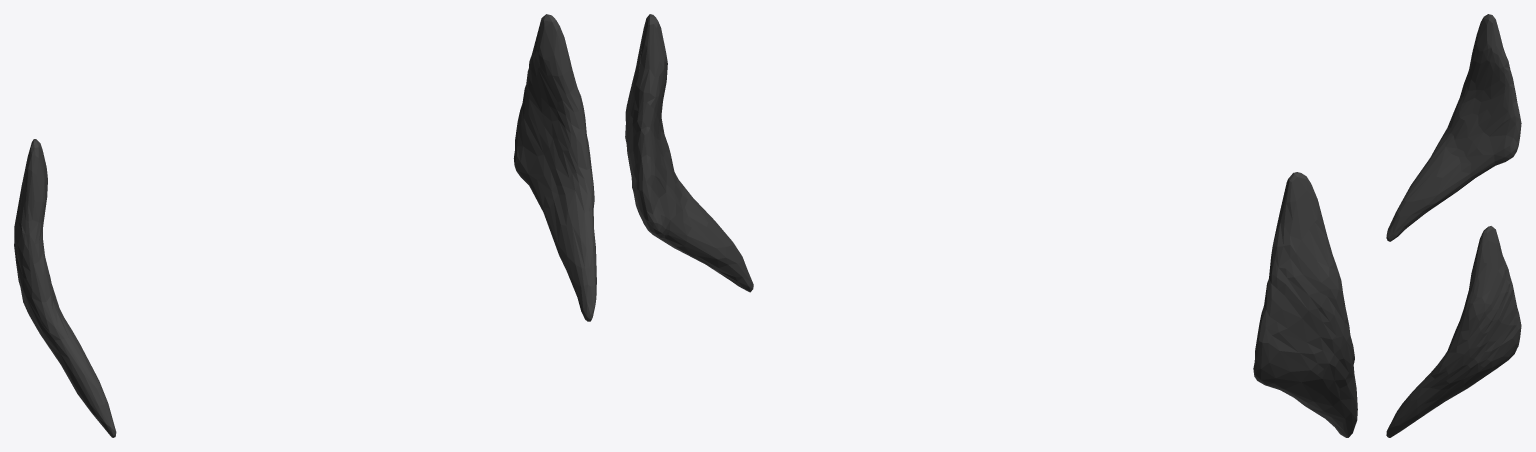
File: m_anconeus.glb
3 renders of one model, left to right at view 1: azimuth 30°, elevation 25°; view 2: azimuth 150°, elevation 25°; view 3: azimuth 270°, elevation 25°, orthographic. The views are drawn at different scales.
Parts seen in each view (by area): view 1: m_anconeus; view 2: m_anconeus; view 3: m_anconeus.
Boxes of the visible parts, <box> form: m_anconeus: <box>14,14,596,437</box>; m_anconeus: <box>625,14,1357,437</box>; m_anconeus: <box>1386,14,1521,437</box>.
Bounding box in the file's own units: 0.00425 × 0.00187 × 0.00104.
Materials: 1 (1 with a texture image).
